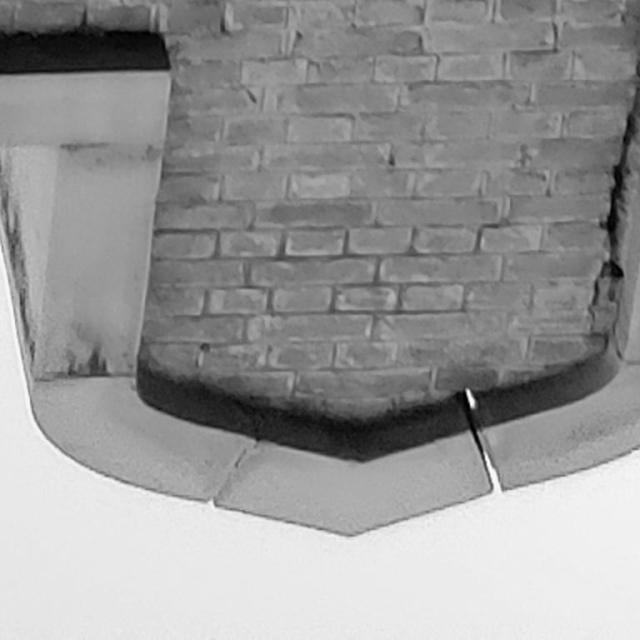crack: (588, 88, 638, 334)
